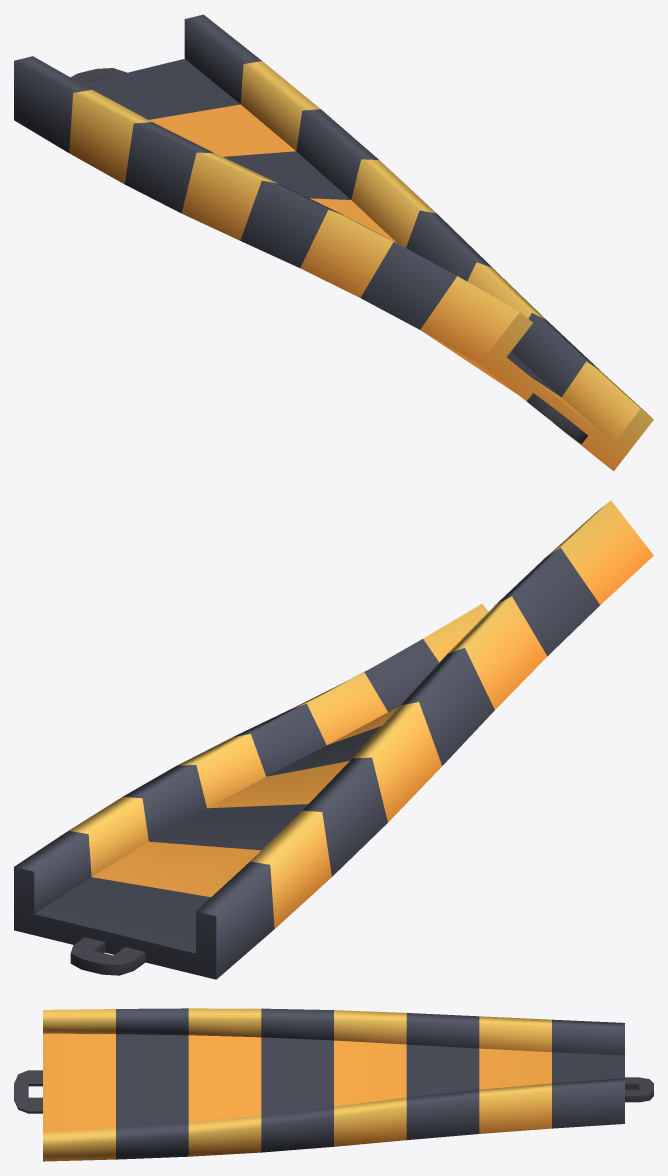
The model's file is track-striped-narrow-straight-skew-left.fbx.
3 renders of one model, top to bottom at view 1: azimuth 30°, elevation 25°; view 2: azimuth 150°, elevation 25°; view 3: azimuth 270°, elevation 25°, orthographic. The views are drawn at different scales.
Parts seen in each view (by area): view 1: track-striped-narrow-straight-skew-left; view 2: track-striped-narrow-straight-skew-left; view 3: track-striped-narrow-straight-skew-left.
Boxes of the visible parts, x1,y1,x2,y2 form: track-striped-narrow-straight-skew-left: [14, 14, 653, 471]; track-striped-narrow-straight-skew-left: [14, 500, 653, 979]; track-striped-narrow-straight-skew-left: [14, 1008, 653, 1161].
Size of the model in its own units: 108 by 91.92 by 440.
